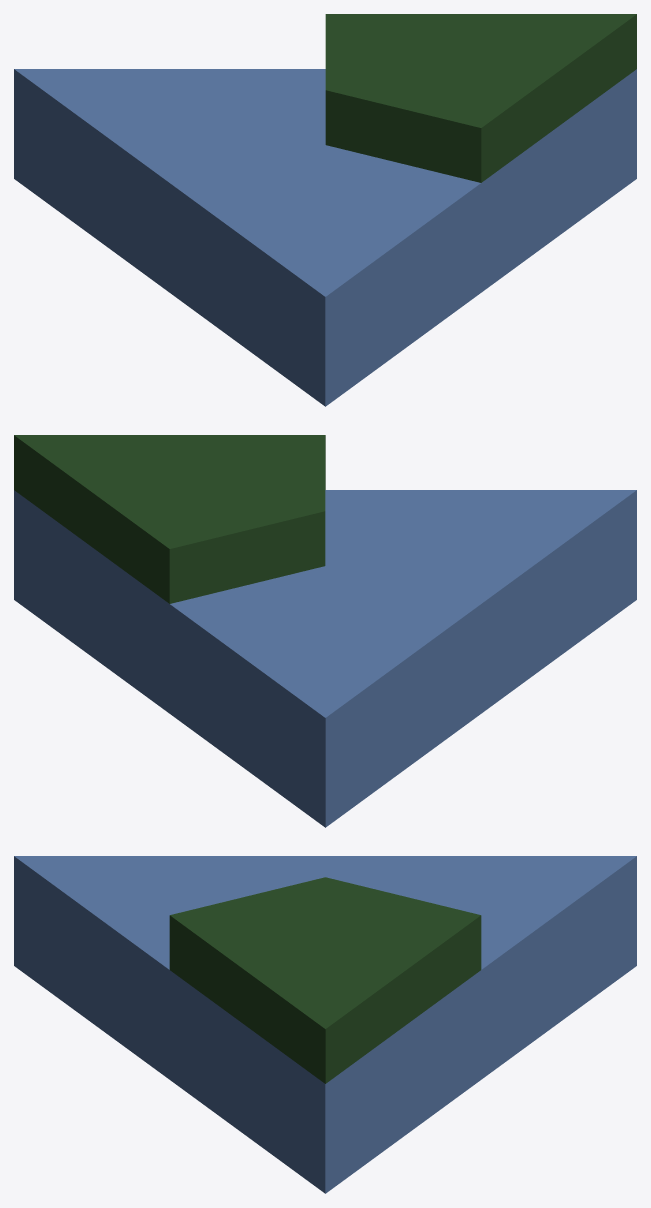
The model's file is tri_3.glb.
3 renders of one model, top to bottom at view 1: azimuth 30°, elevation 25°; view 2: azimuth 150°, elevation 25°; view 3: azimuth 270°, elevation 25°, orthographic.
Visible parts, largest first — view 1: tri_3; view 2: tri_3; view 3: tri_3.
Part boxes in pixels (bbox=[...]): tri_3: bbox=[14, 14, 636, 406]; tri_3: bbox=[14, 435, 636, 827]; tri_3: bbox=[14, 856, 636, 1193].
Bounding box in the file's own units: 0.7423 × 0.25 × 0.8571.
